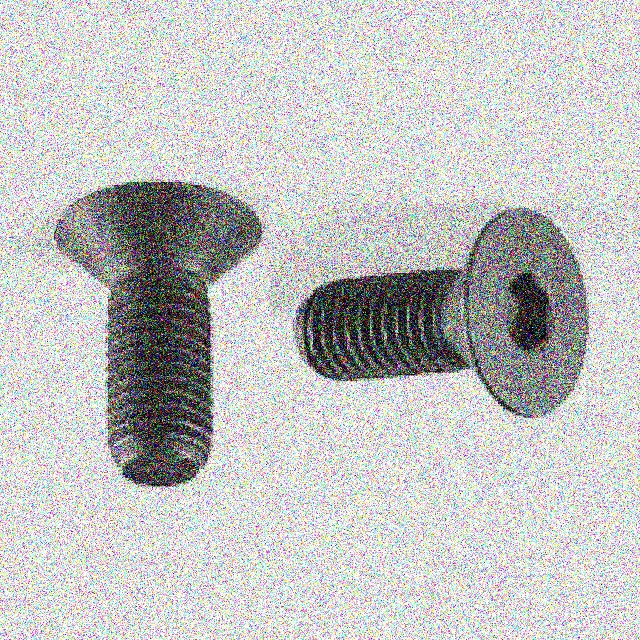allen: (467, 209, 592, 422)
